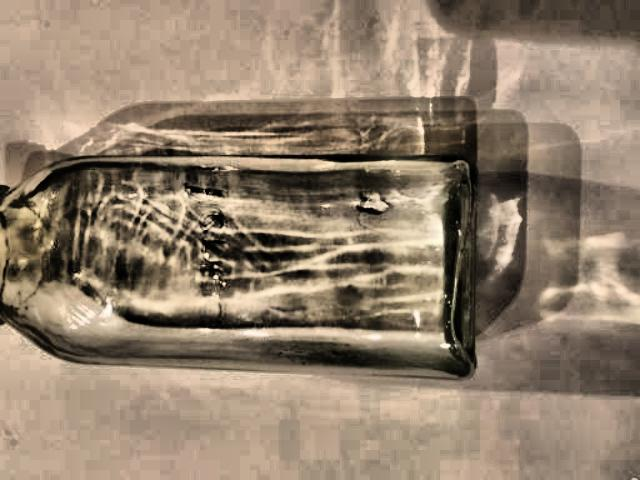Almennt: (0, 121, 485, 400)
